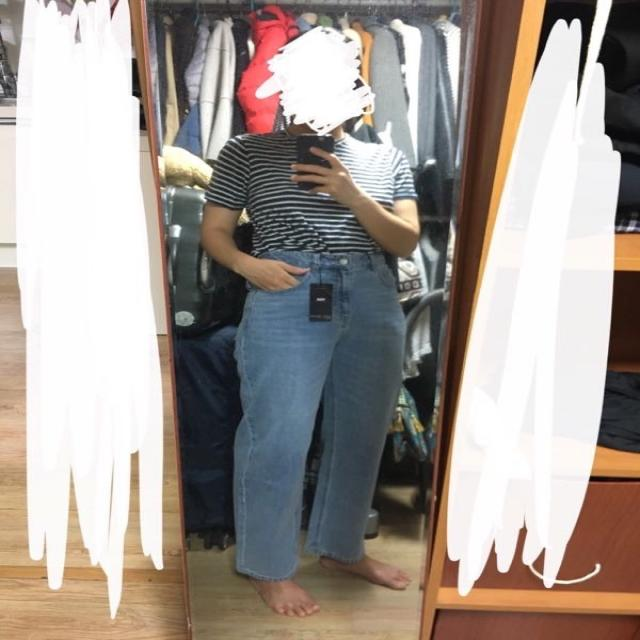denimpants: (237, 253, 403, 578)
shortsleeve: (204, 130, 420, 254)
